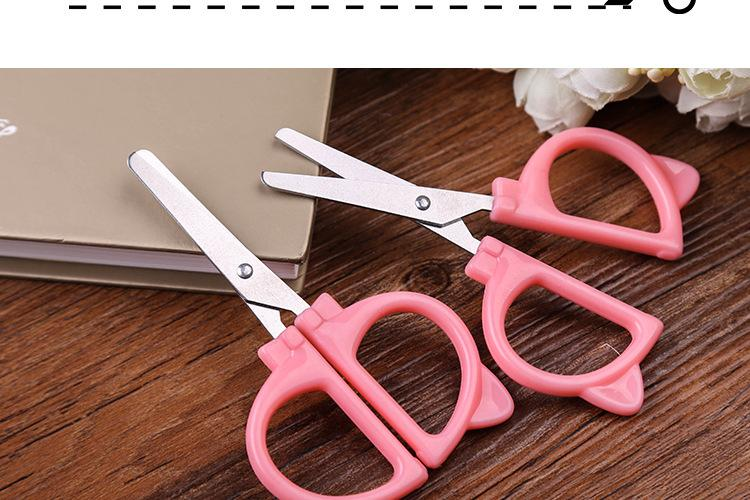scissor: (111, 122, 729, 490)
